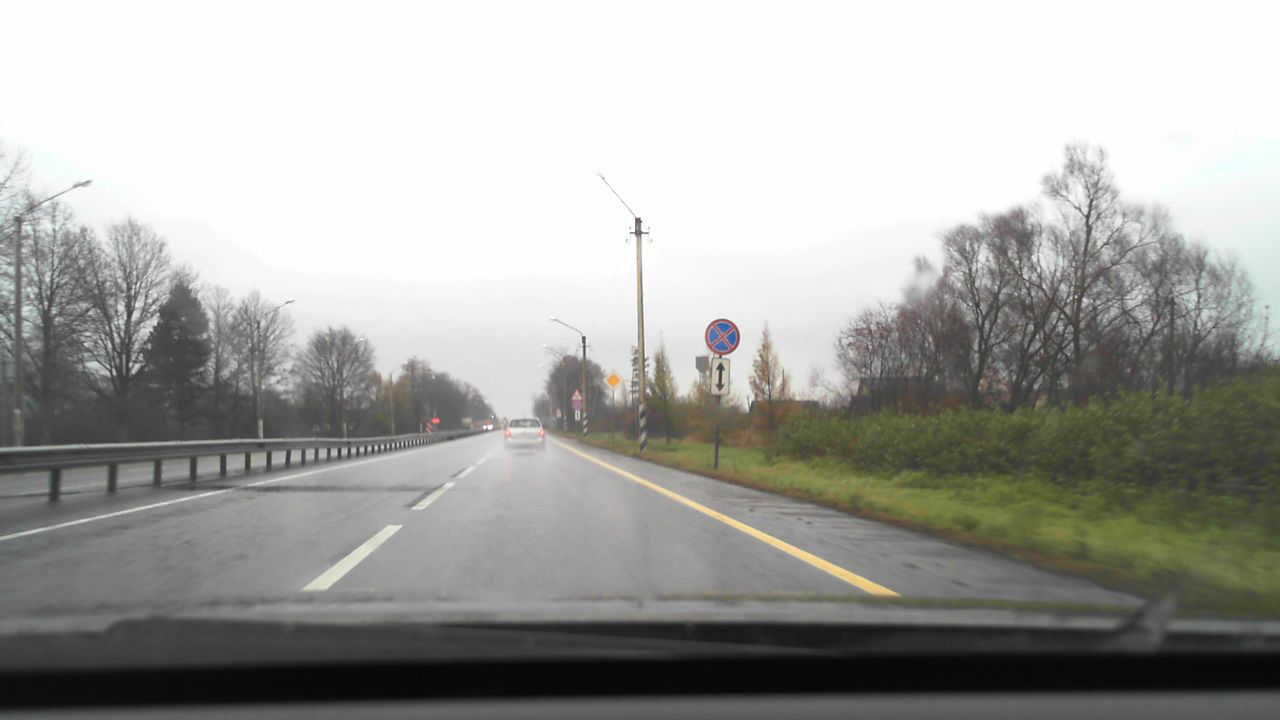No Parking: (705, 318, 740, 355)
